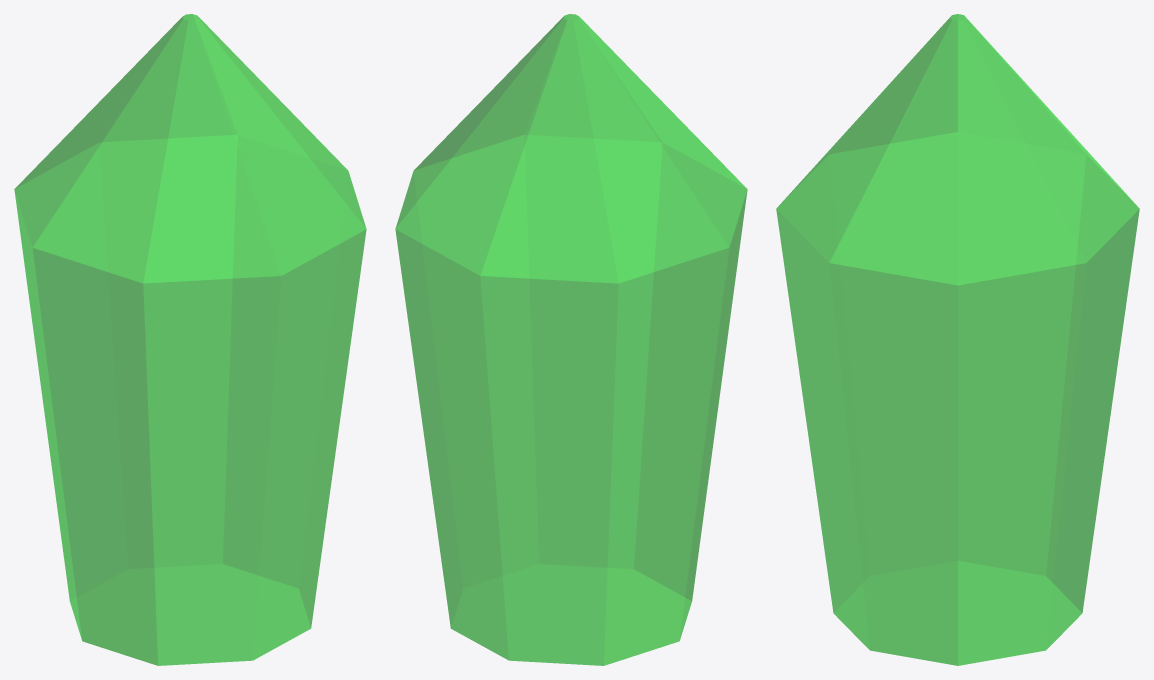
File: GrünKristall.glb
3 renders of one model, left to right at view 1: azimuth 30°, elevation 25°; view 2: azimuth 150°, elevation 25°; view 3: azimuth 270°, elevation 25°, orthographic.
Parts seen in each view (by area): view 1: Circle.018; view 2: Circle.018; view 3: Circle.018.
Boxes of the visible parts, x1,y1,x2,y2 form: Circle.018: (14,14,366,665); Circle.018: (395,14,747,665); Circle.018: (776,14,1139,665).
Bounding box in the file's own units: 0.5681 × 1.03 × 0.5681.
